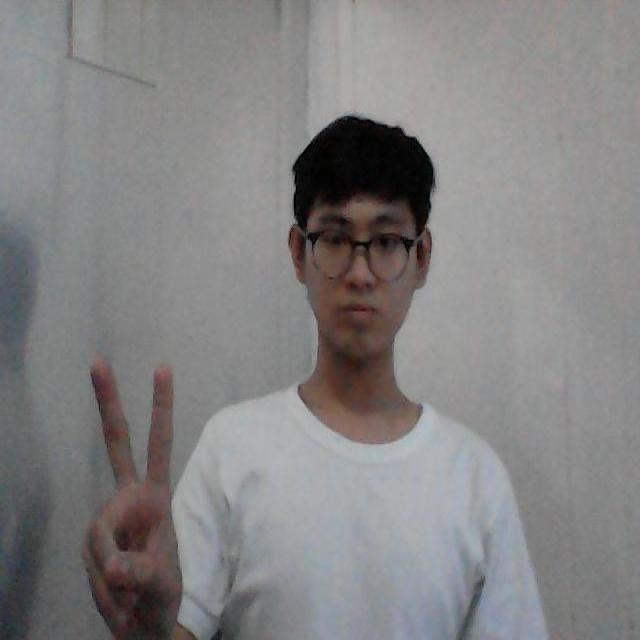V: (35, 327, 227, 640)
